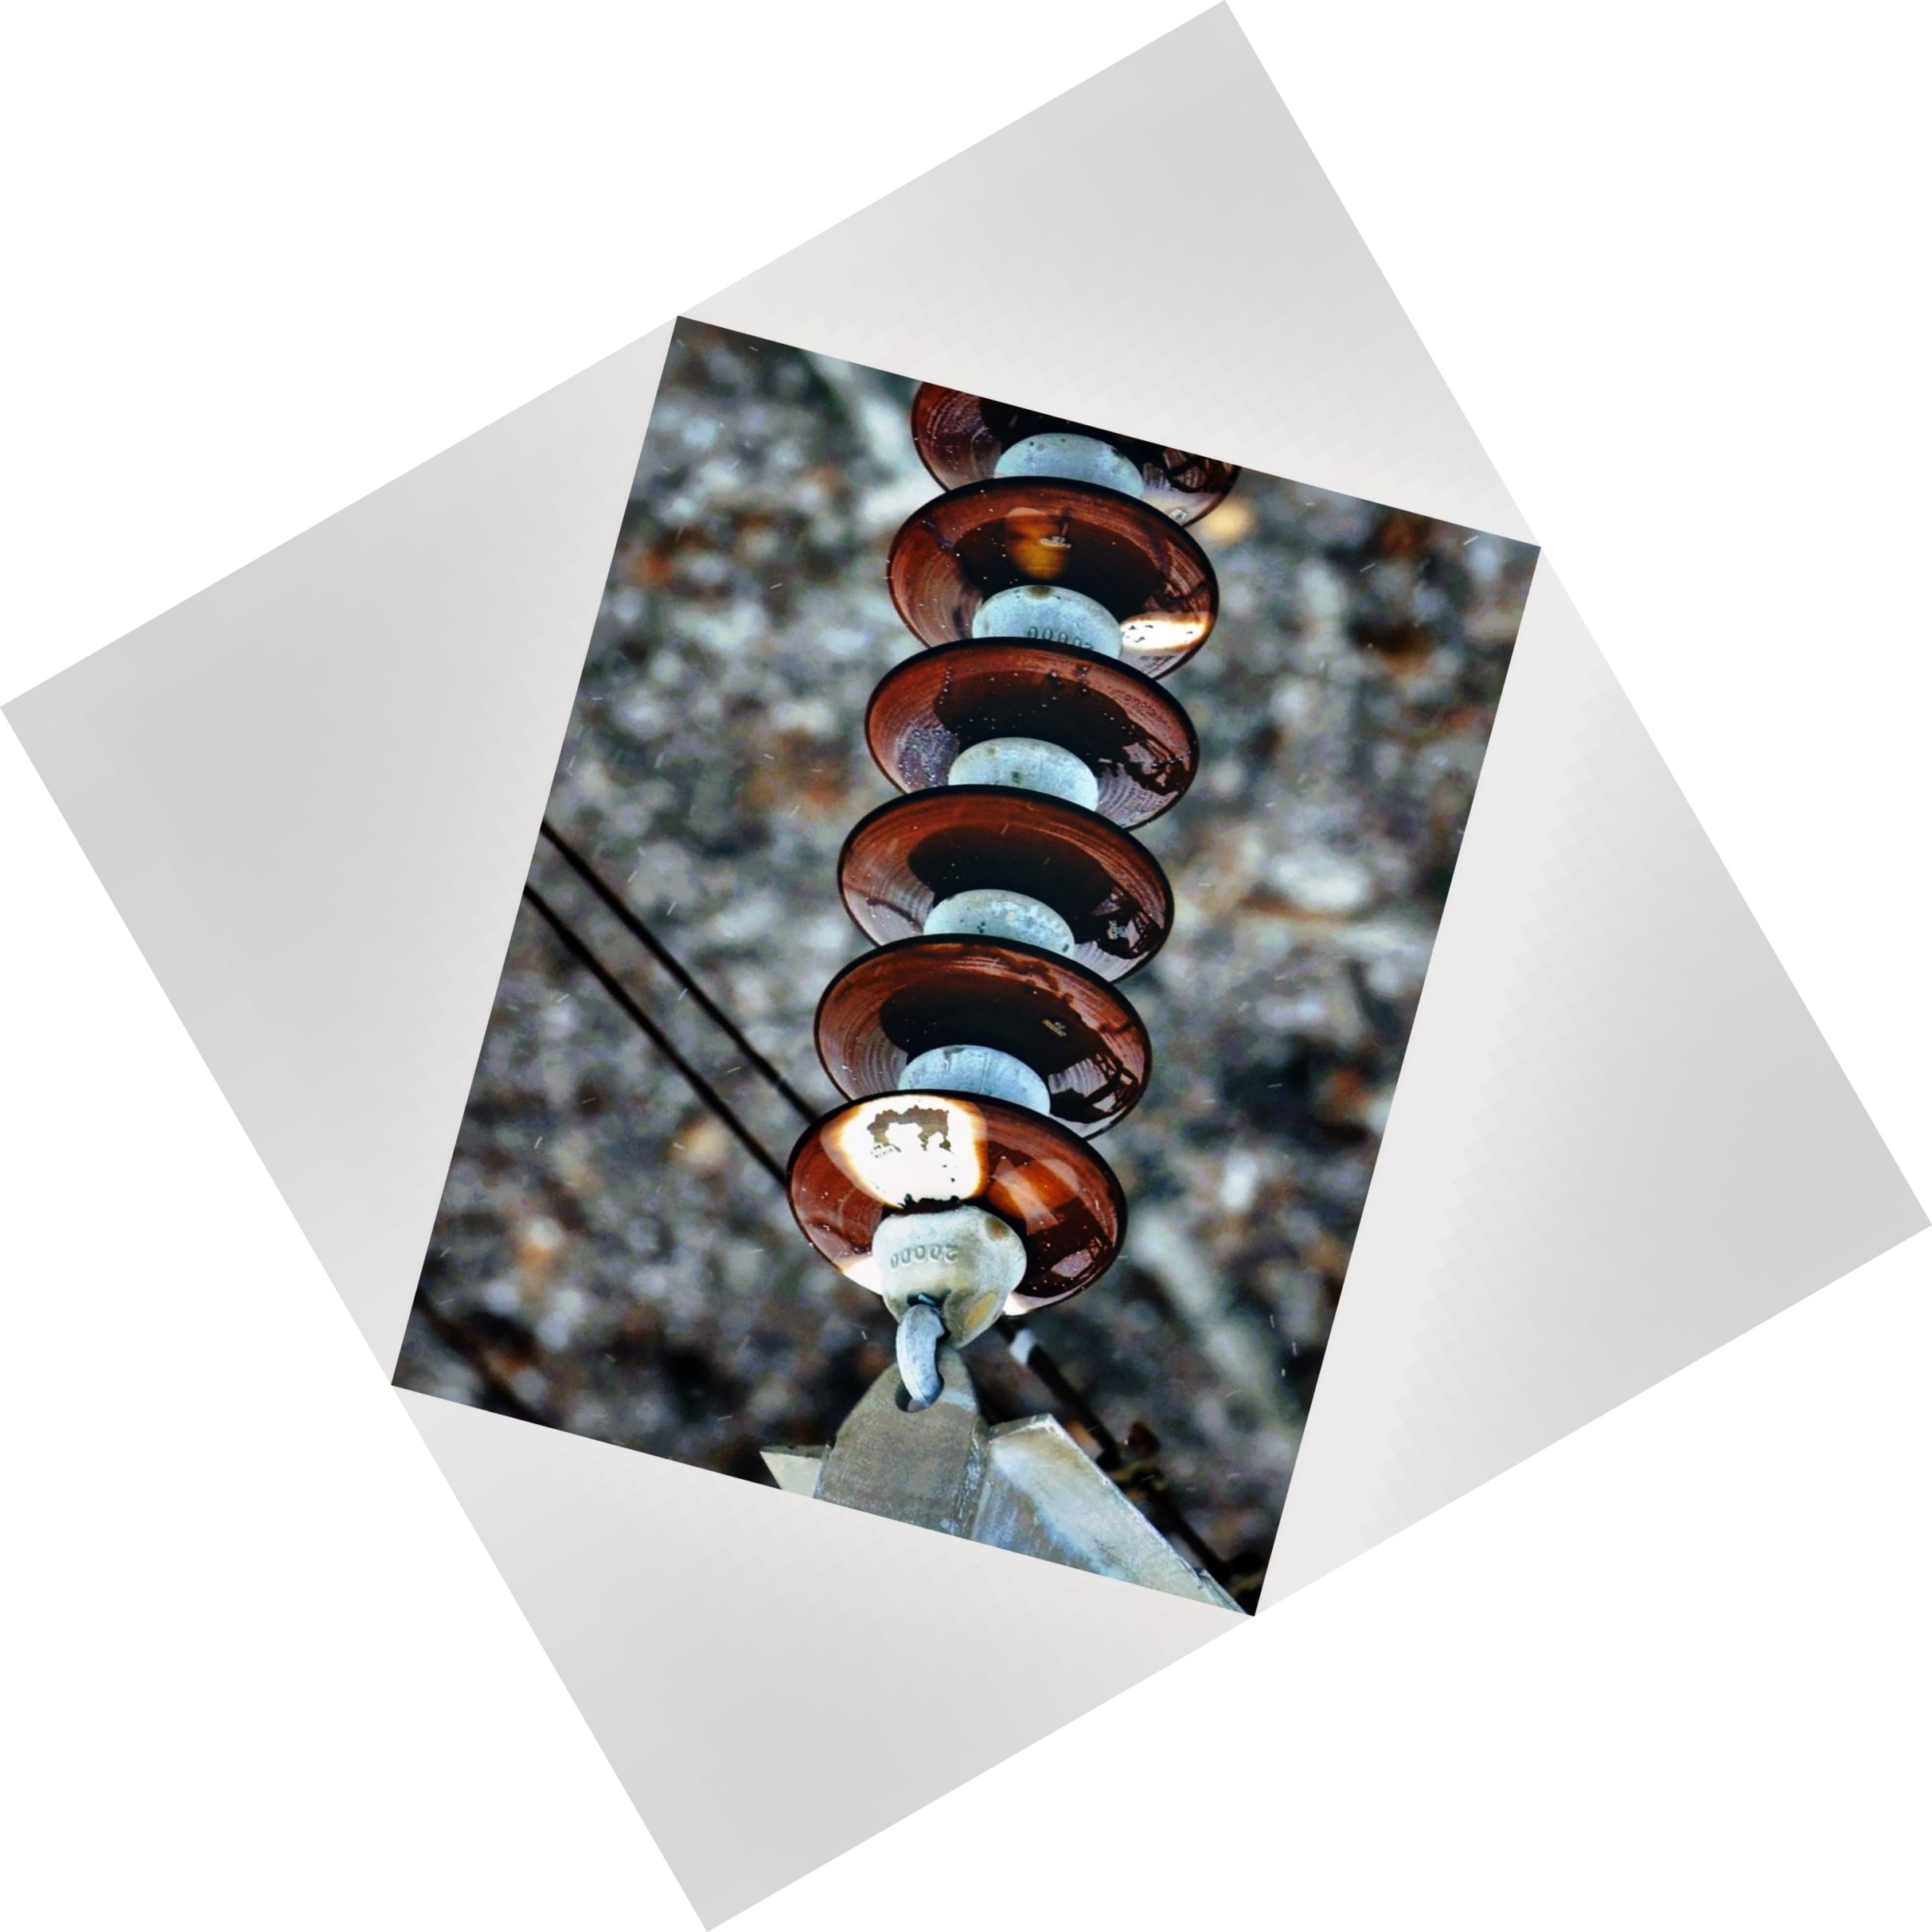Insulator flashover: (773, 1076, 1141, 1343)
